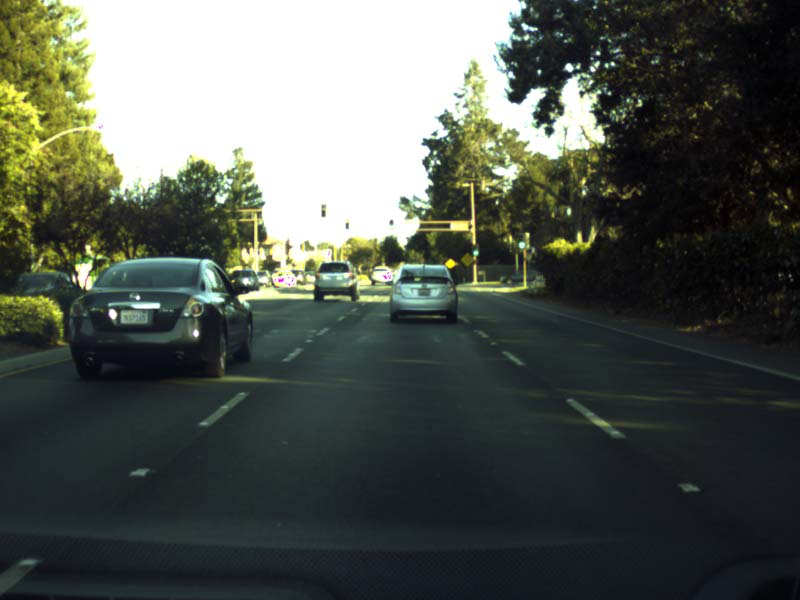Green: (517, 235, 524, 248), (471, 244, 479, 255), (389, 219, 393, 228)
Red: (345, 220, 349, 228)
